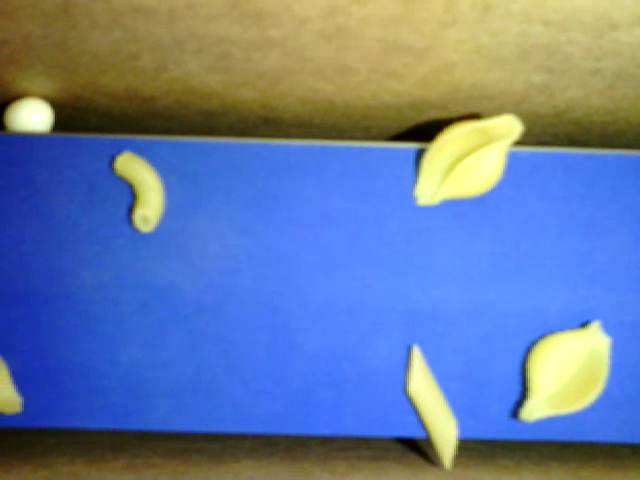elbow: (113, 149, 165, 233)
penne: (404, 342, 460, 470)
shell: (411, 112, 526, 205), (518, 318, 613, 423)
